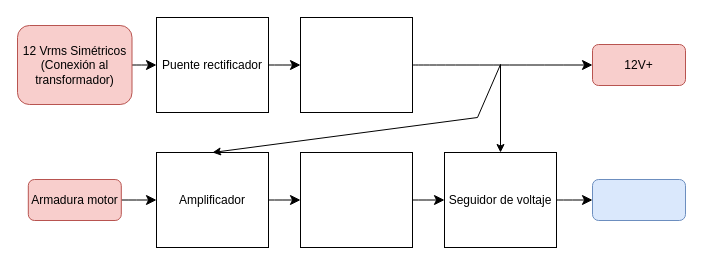
This 703x265 diagram has some shape labels left out. The centre of each missing label's shape, as x and y in pixels:
Limitador: point (356, 200)
Regulador de tensión + filtro: point (356, 64)
Señal de corriente: point (639, 199)
